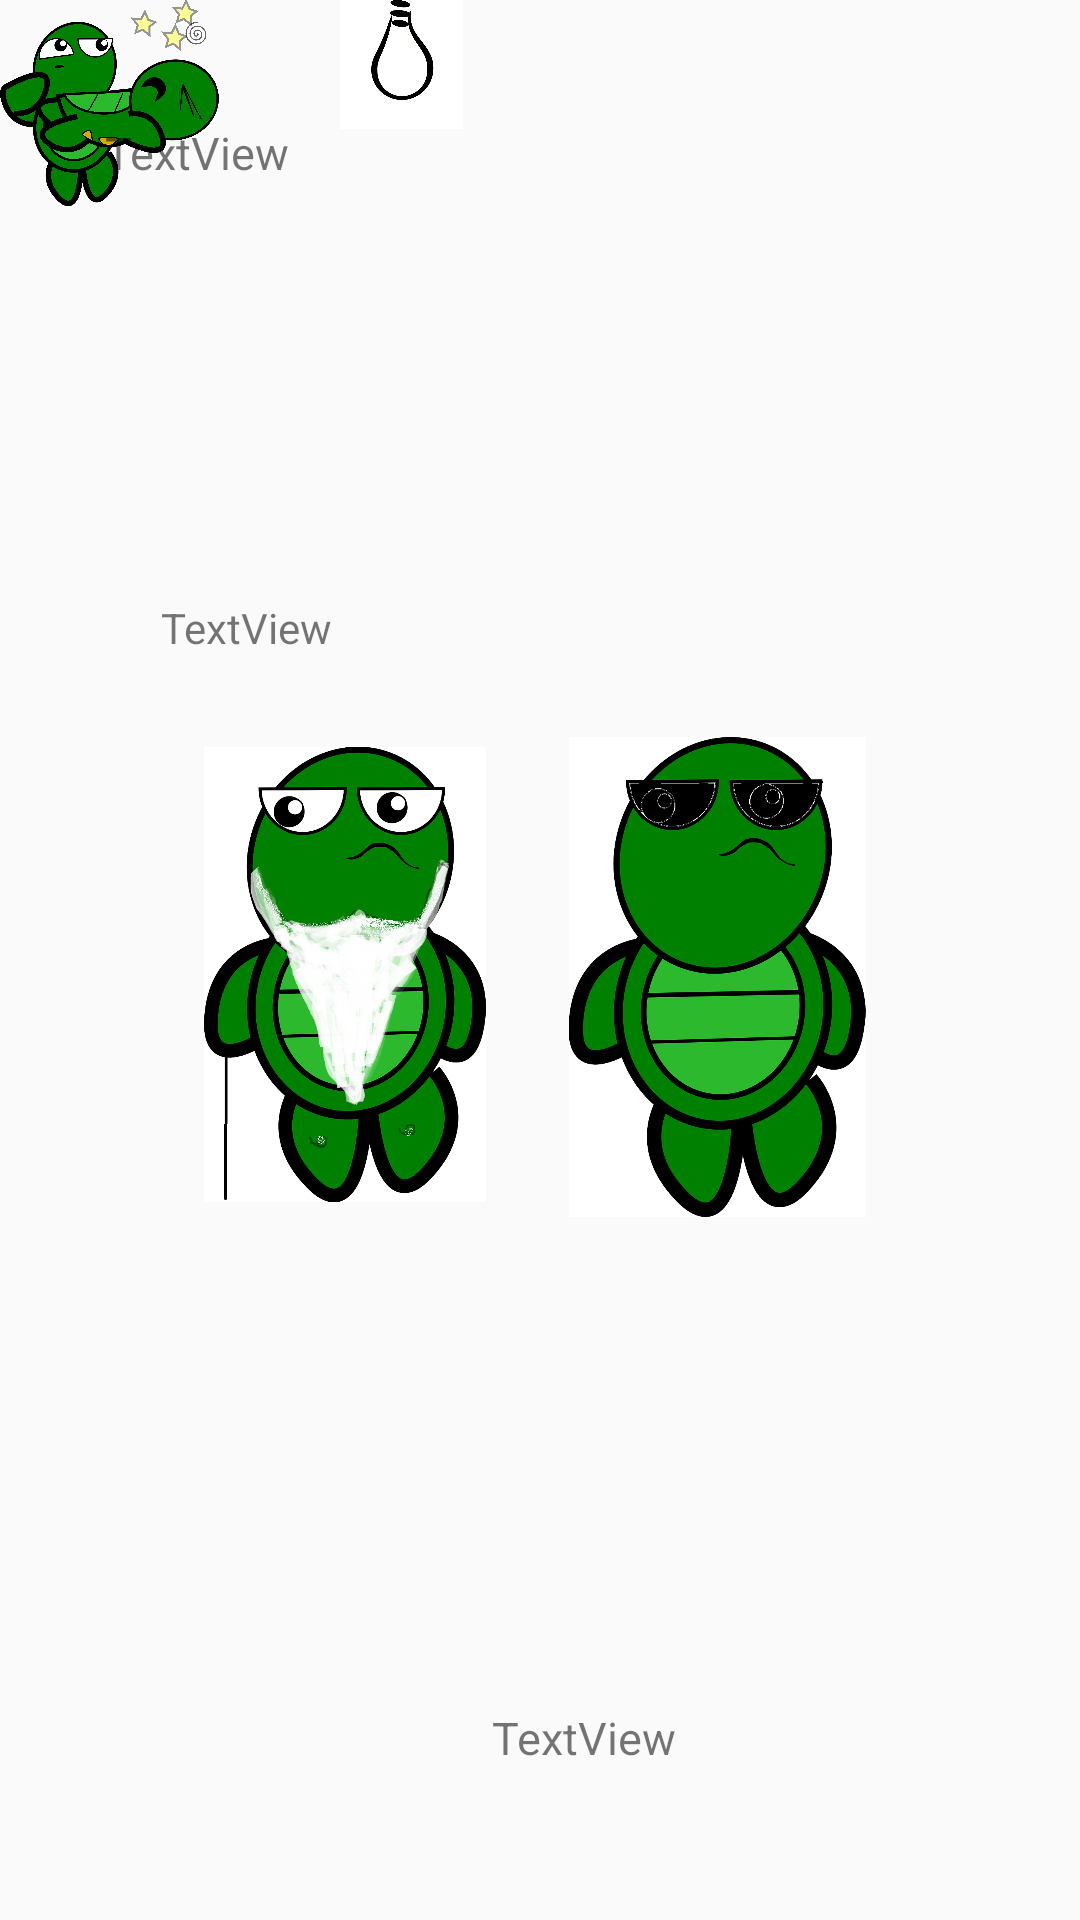

Icons on this 1080px×1920px Android screen, each with its box as {"left": x1, "top": y1, "right": x2, "bottom": y2}:
bulb off: {"left": 371, "top": 0, "right": 434, "bottom": 100}
